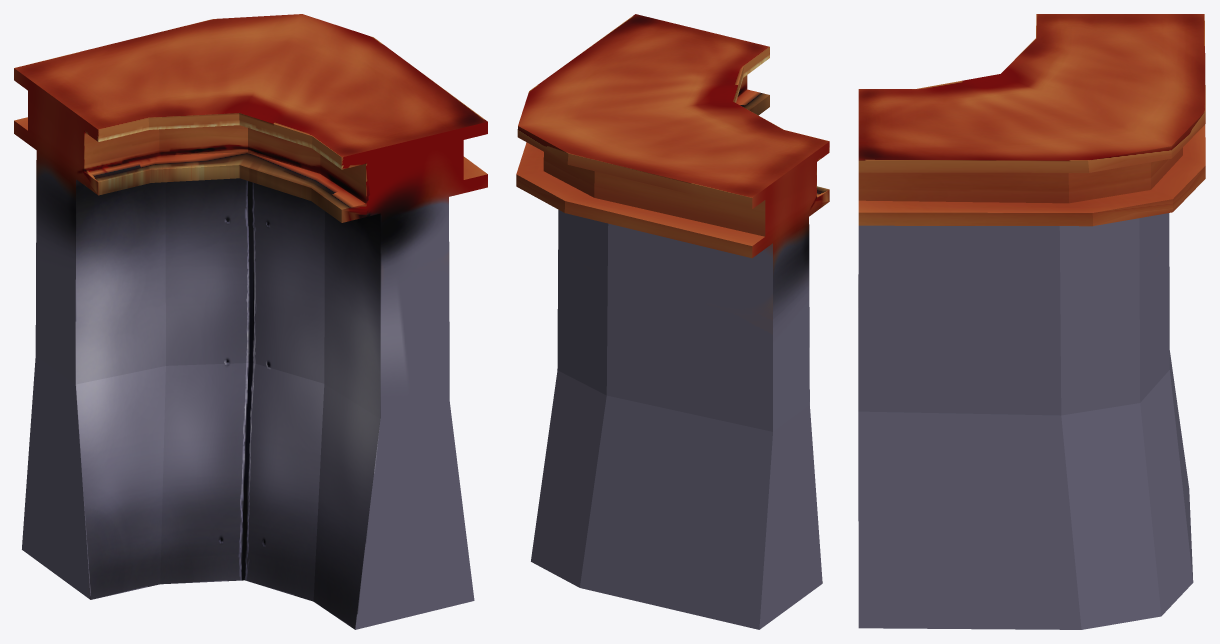
The model's file is Wall_1x1_Corner.fbx.
3 views of the same model, side by side, from view 1: azimuth 30°, elevation 25°; view 2: azimuth 150°, elevation 25°; view 3: azimuth 270°, elevation 25° (orthographic). The views are drawn at different scales.
Parts seen in each view (by area): view 1: Wall_2x2_Corner; view 2: Wall_2x2_Corner; view 3: Wall_2x2_Corner.
Part boxes in pixels (box(x1,y1,x2,y2)): Wall_2x2_Corner: box(14, 14, 487, 629); Wall_2x2_Corner: box(516, 14, 829, 629); Wall_2x2_Corner: box(858, 14, 1205, 629).
Bounding box in the file's own units: 133 × 200 × 133.
